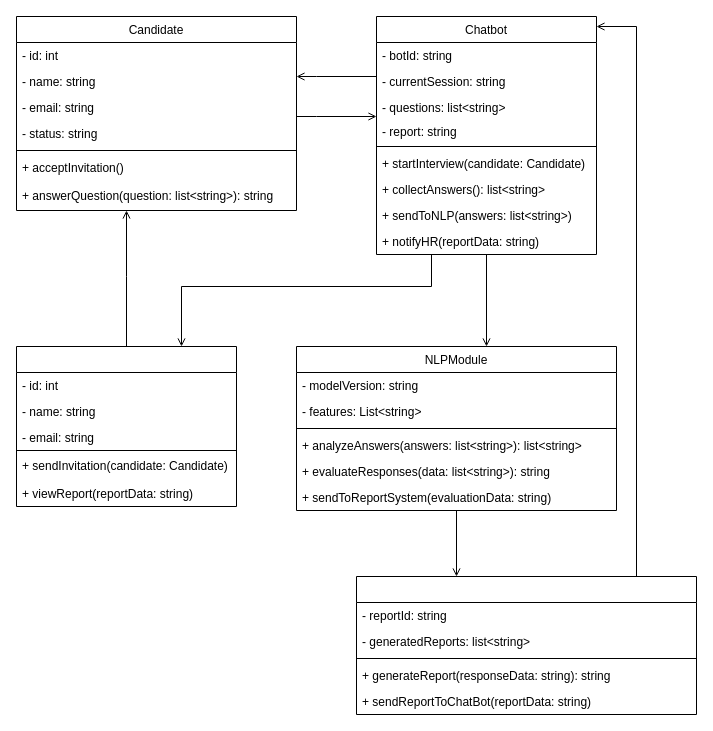
Some shapes in this 713 by 731 pixel diagram are drawn without their labels. Each missing label, with the box of its shape:
HRManager: (16, 346, 236, 506)
Report System: (356, 576, 696, 714)
